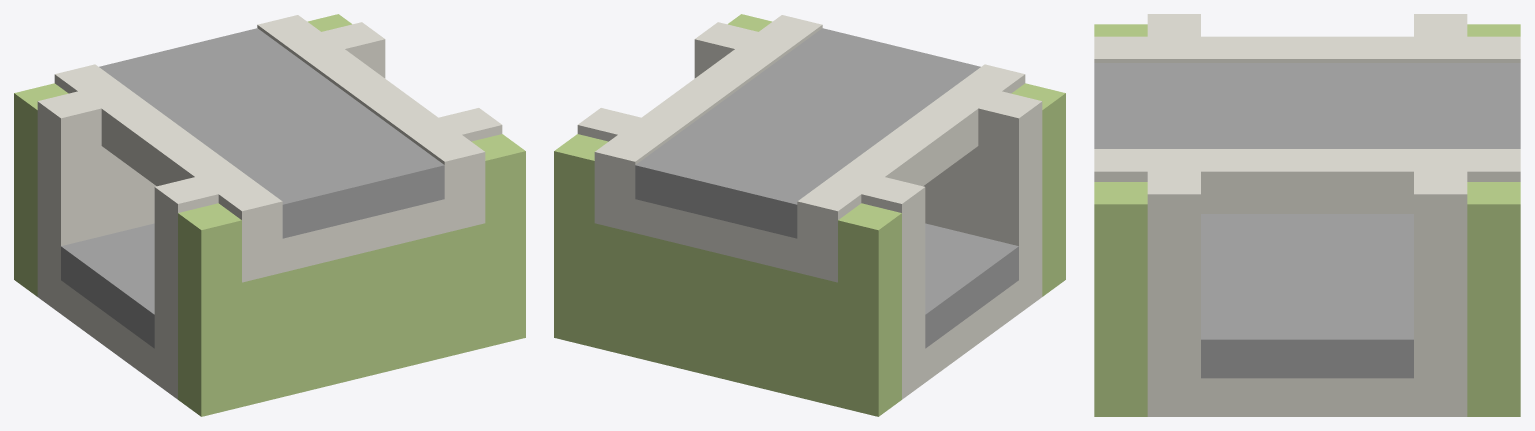
The model's file is road-pack--tile212.glb.
The picture shows the model from 3 angles, left to right: view 1: azimuth 30°, elevation 25°; view 2: azimuth 150°, elevation 25°; view 3: azimuth 270°, elevation 25°; orthographic projection. The views are drawn at different scales.
Visible parts, largest first — view 1: tile212; view 2: tile212; view 3: tile212.
Part boxes in pixels (x1=…): tile212: x1=14, y1=14, x2=525, y2=416; tile212: x1=554, y1=14, x2=1065, y2=416; tile212: x1=1094, y1=14, x2=1520, y2=416.
Size of the model in its own units: 1 by 0.5767 by 1.
